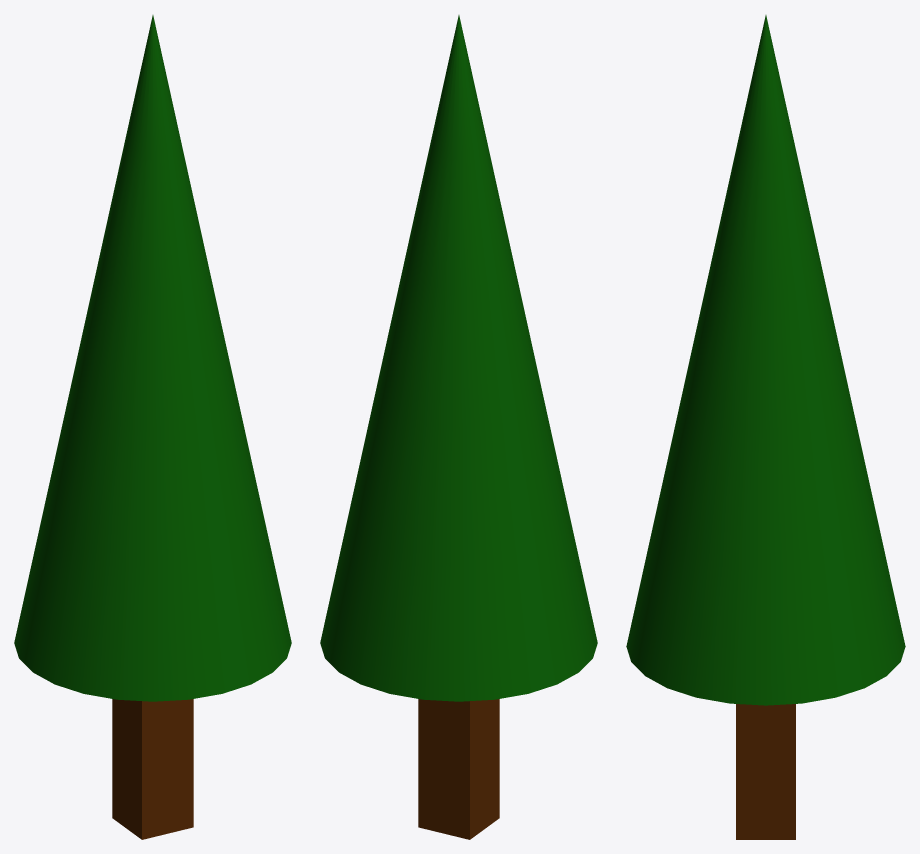
Rendered from DoodadTree3.FBX.
3 views of the same model, side by side, from view 1: azimuth 30°, elevation 25°; view 2: azimuth 150°, elevation 25°; view 3: azimuth 270°, elevation 25° (orthographic).
Parts seen in each view (by area): view 1: Box001; view 2: Box001; view 3: Box001.
Part boxes in pixels (box(x1,y1,x2,y2)): Box001: box(14, 15, 291, 839); Box001: box(320, 15, 597, 839); Box001: box(626, 15, 905, 839).
Size of the model in its own units: 14 by 45 by 14.
